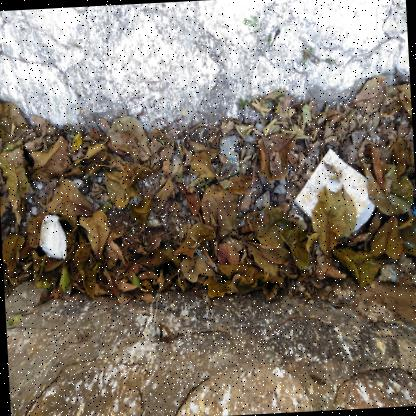Other carton: (226, 152, 239, 176)
Styrofoam piece: (294, 148, 374, 232), (39, 214, 66, 259)
